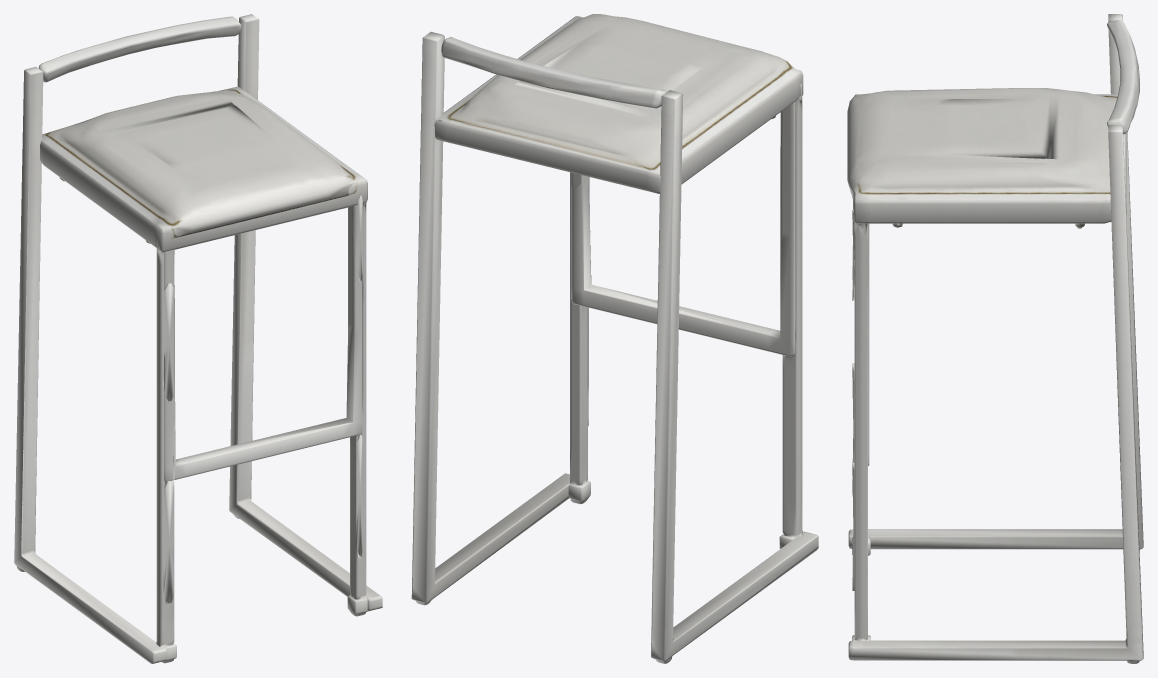
The model's file is White_Frame_White_Pad_0404163541_texture.glb.
The picture shows the model from 3 angles, left to right: view 1: azimuth 30°, elevation 25°; view 2: azimuth 150°, elevation 25°; view 3: azimuth 270°, elevation 25°; orthographic projection. The views are drawn at different scales.
Parts seen in each view (by area): view 1: Mesh_0; view 2: Mesh_0; view 3: Mesh_0.
Part boxes in pixels (x1,y1,x2,y2): Mesh_0: (14, 14, 382, 663); Mesh_0: (411, 14, 818, 663); Mesh_0: (847, 14, 1143, 663).
Bounding box in the file's own units: 0.5049 × 1.07 × 0.5334.
1 material, 1 textured.
